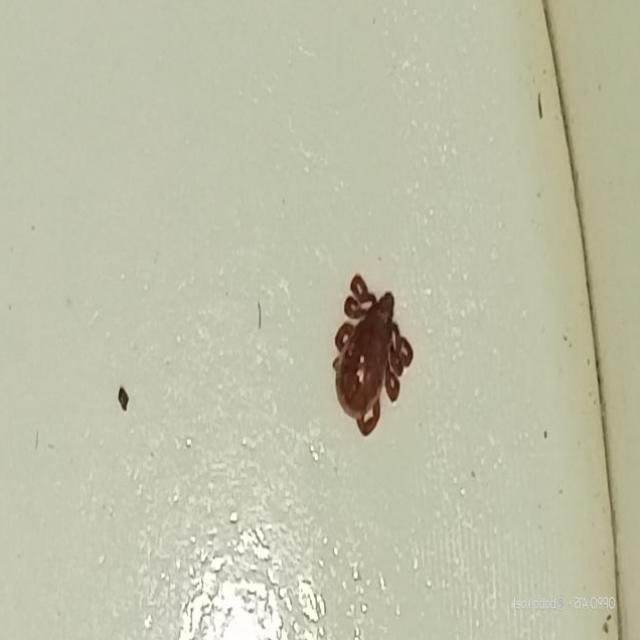Rhipicephalus Sanguineus-M: (331, 275, 415, 438)
